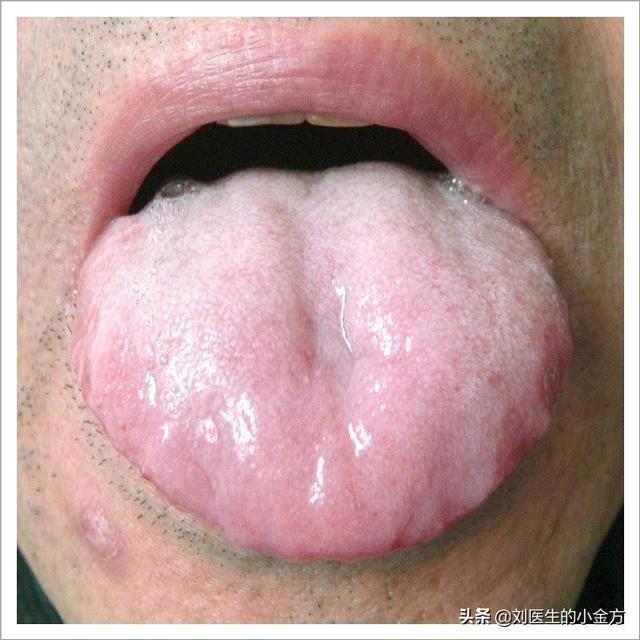tongue: (66, 170, 582, 564)
